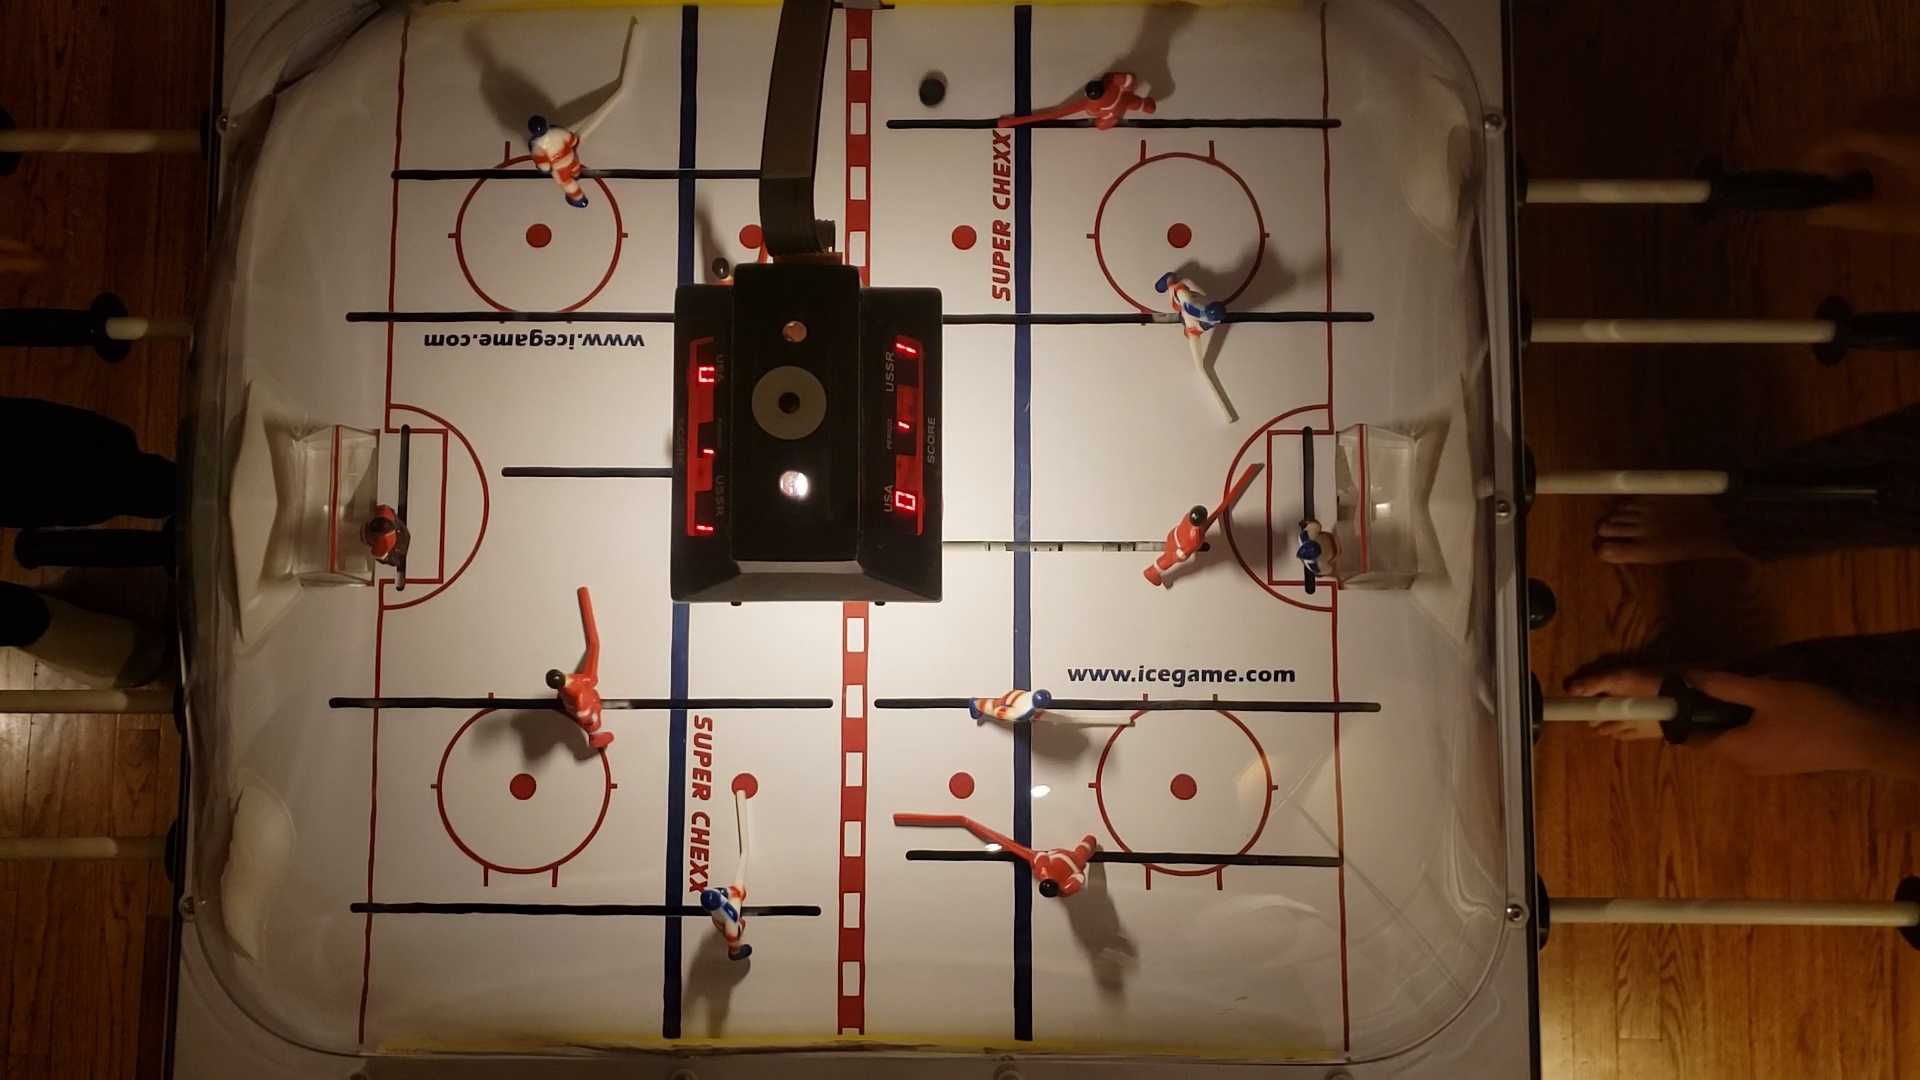puck: (919, 78, 947, 109)
